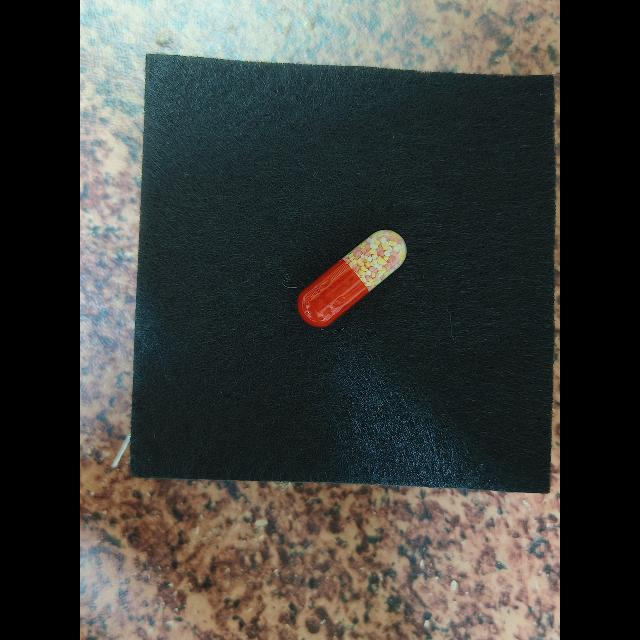Intact Capsule: (297, 230, 407, 328)
